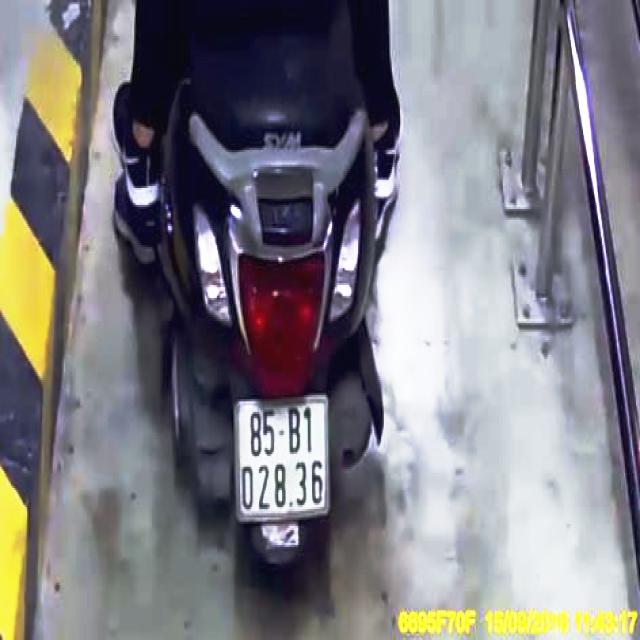license_plate: (237, 395, 329, 518)
